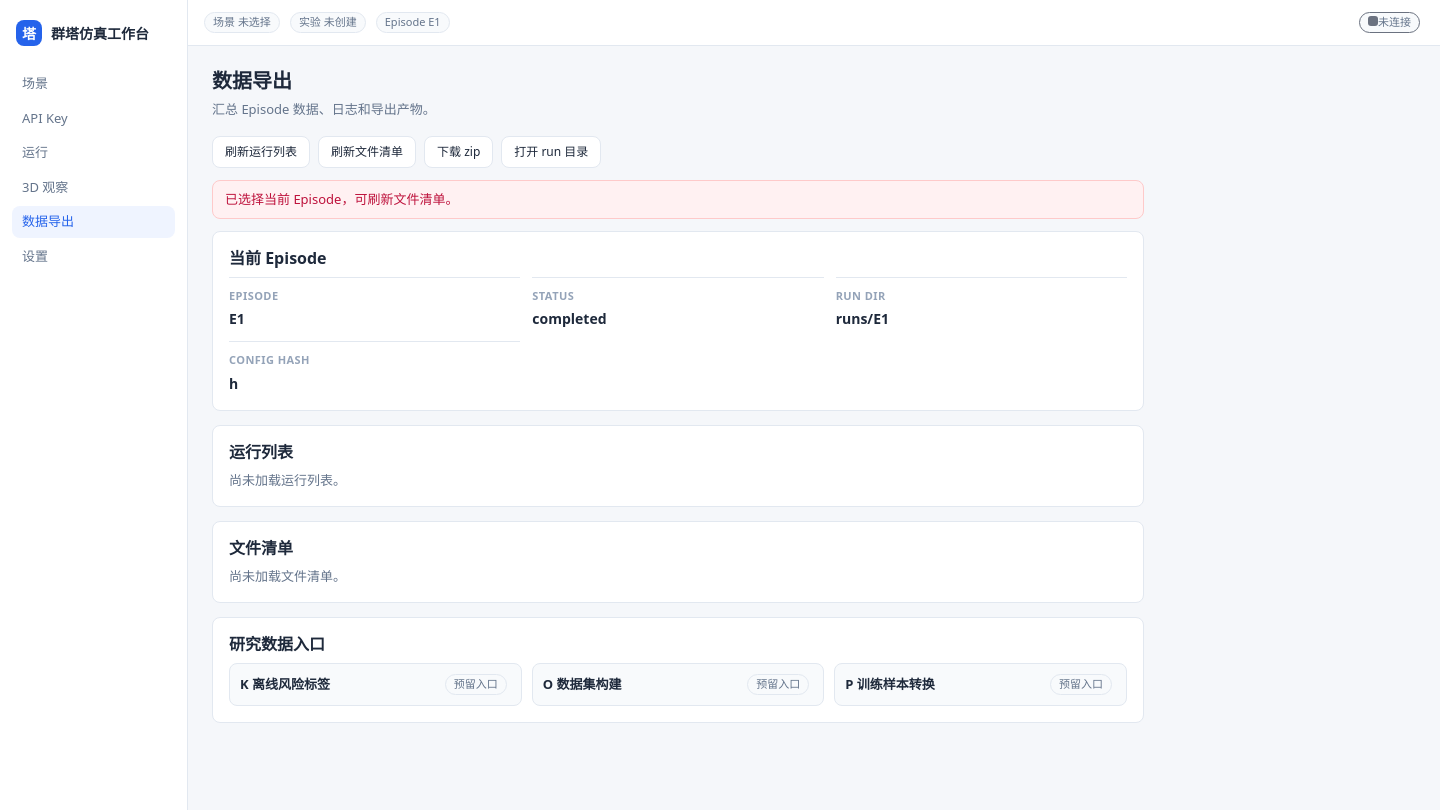
Test: workbench data export and settings pages › refreshes the desktop run list
Click the button "刷新运行列表" at (261, 152), box left=212, top=136, right=310, bottom=168
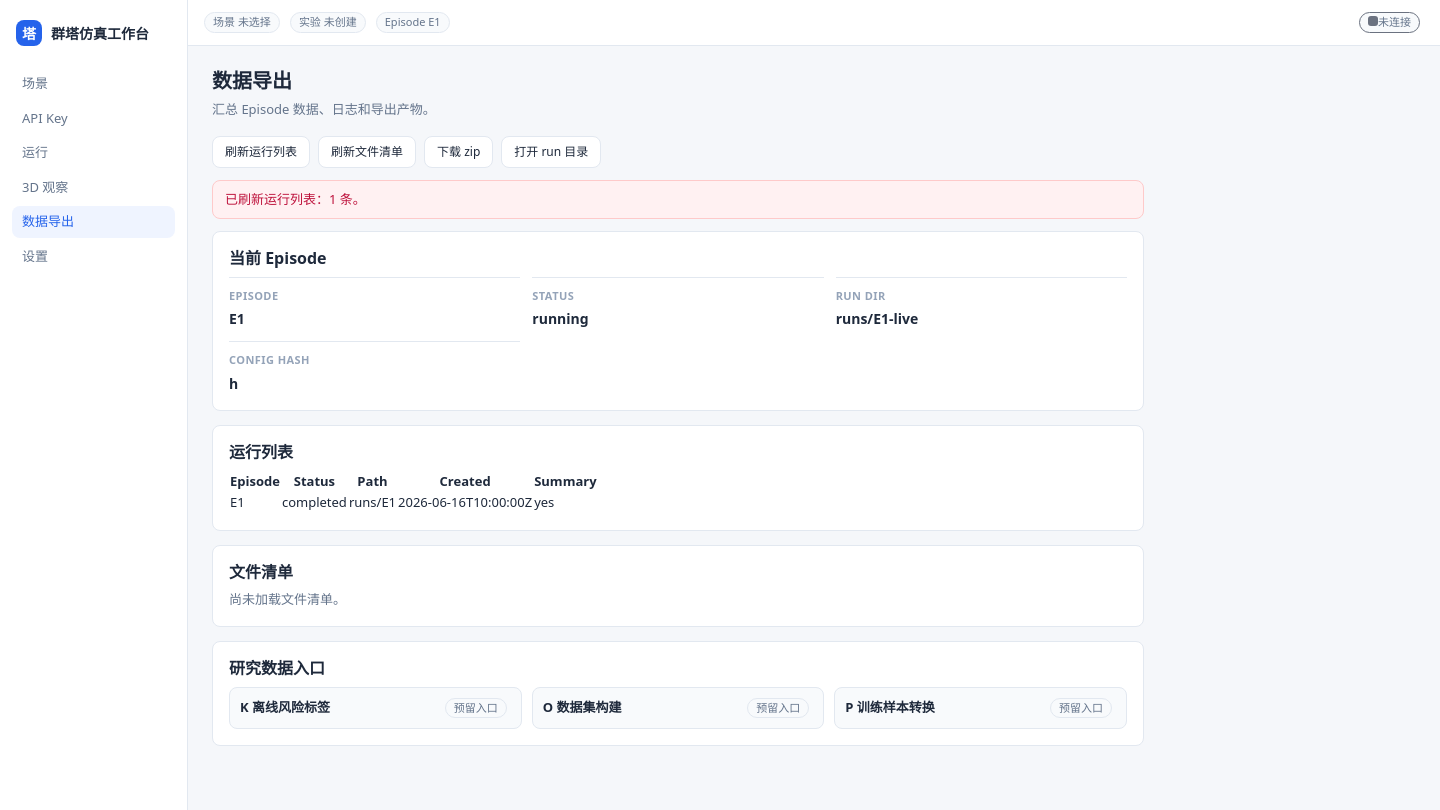
Result: the text "E1" is shown at left=229, top=492, right=281, bottom=514
Result: the text "runs/E1" is shown at left=348, top=492, right=397, bottom=514
Result: the text "yes" is shown at left=533, top=492, right=598, bottom=514
